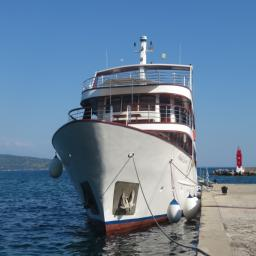cruises: (46, 35, 205, 240)
